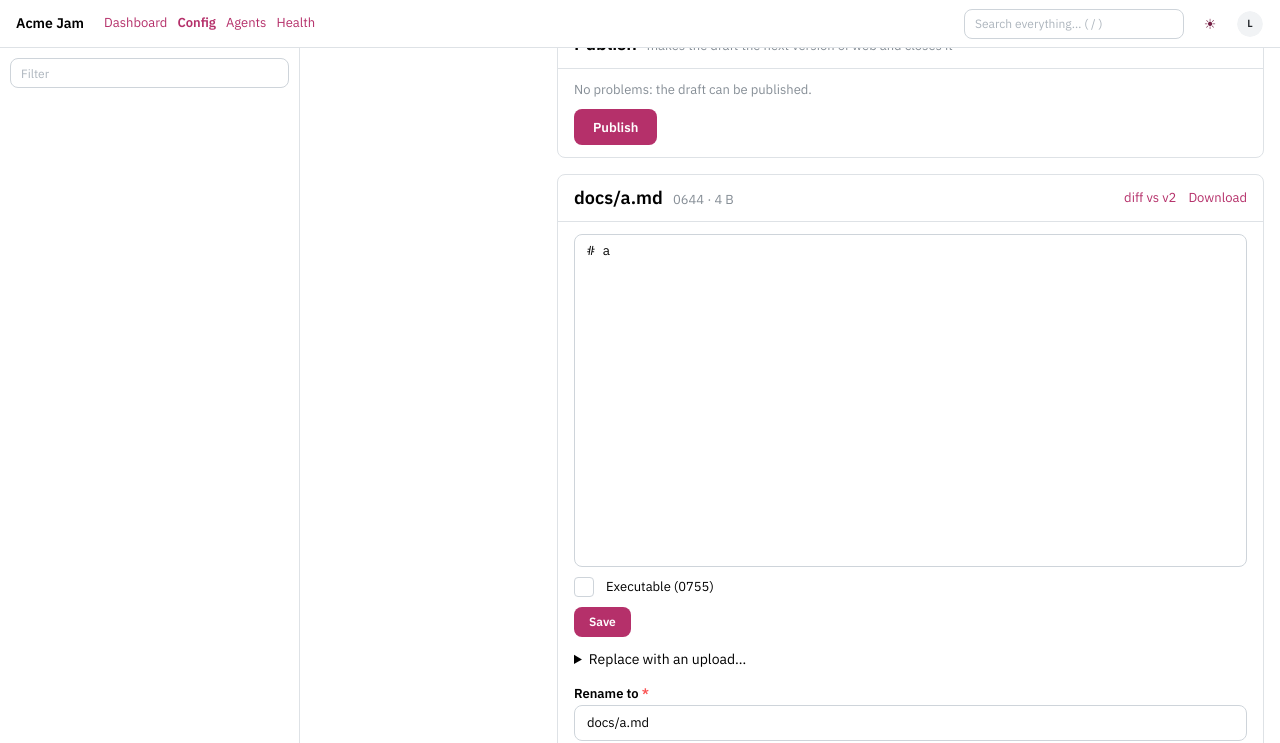
Test case: the draft editor › keeps the text when the save is stale, and offers Reload
(page scrolled)
Type "more" into the text box named "docs/a.md". click: [910, 401]
box: [574, 234, 1247, 568]
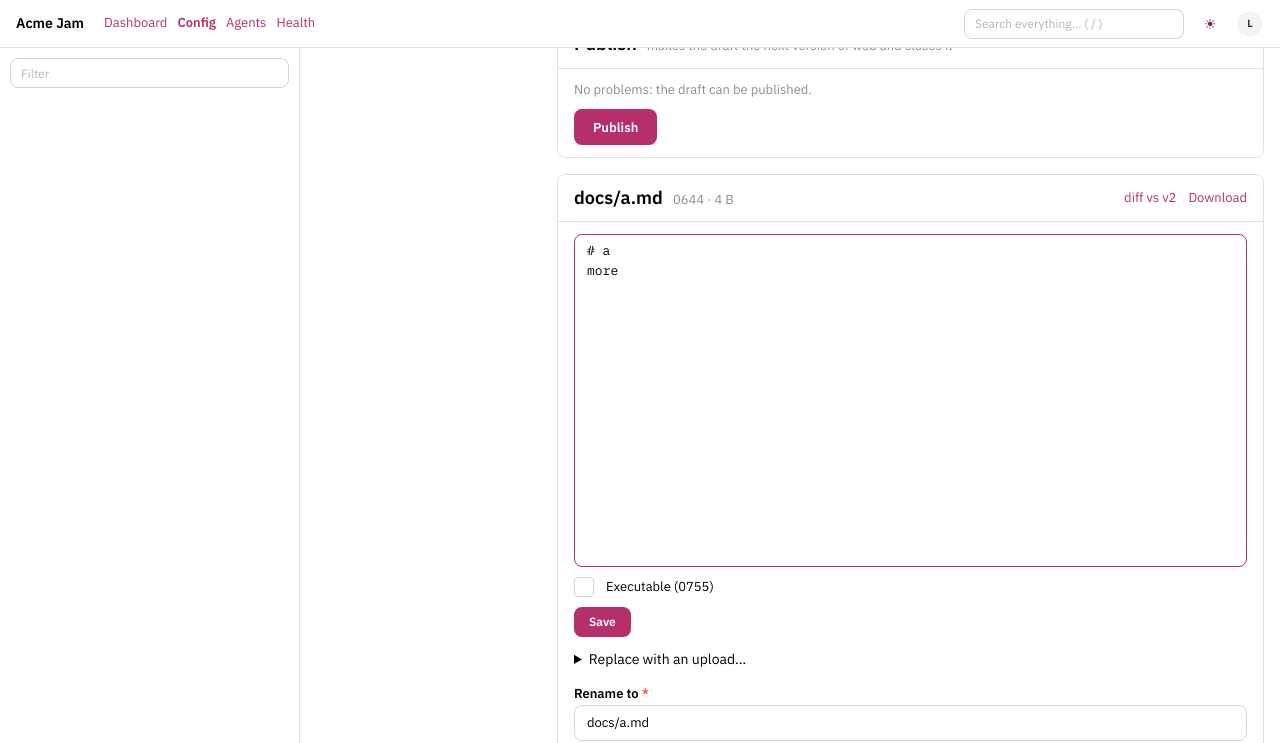
Click the button "Save". click: [602, 622]
box: [574, 608, 631, 638]
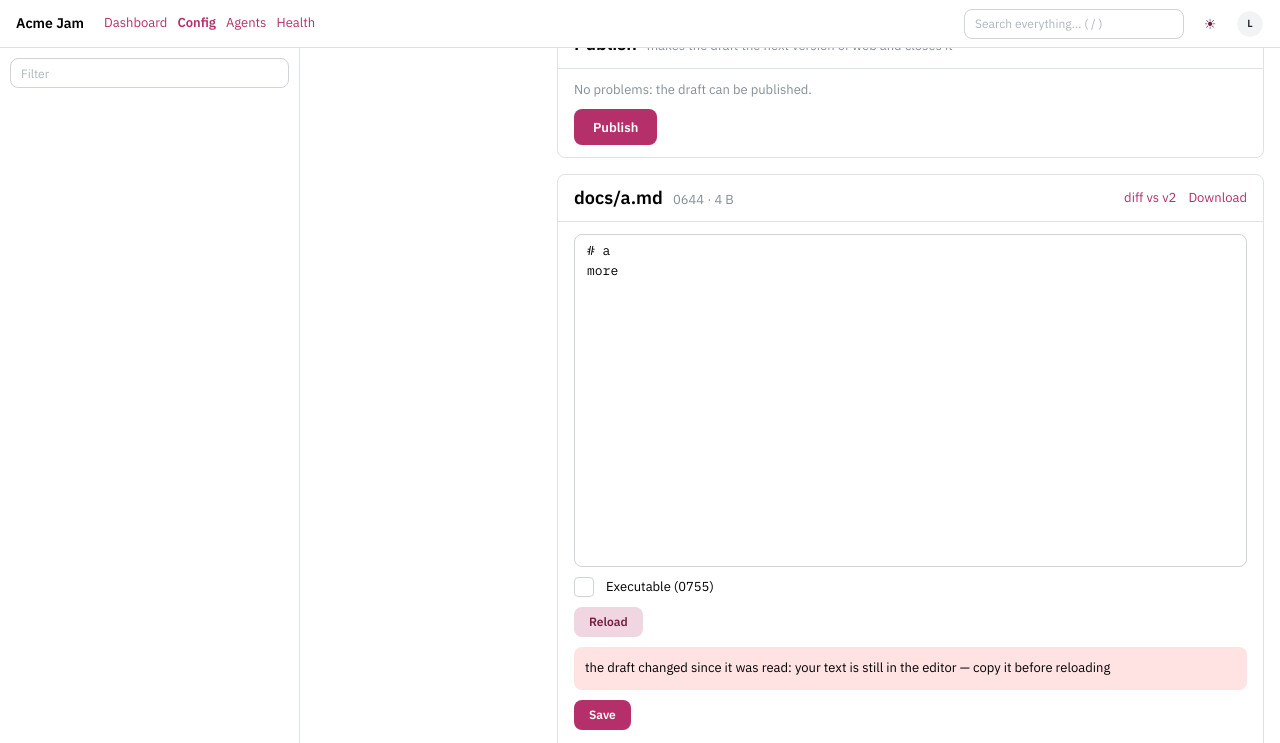
Result: the text "your text is still in the editor" is shown at [585, 660, 1110, 676]
Result: the button "Reload" is shown at [574, 608, 643, 638]
